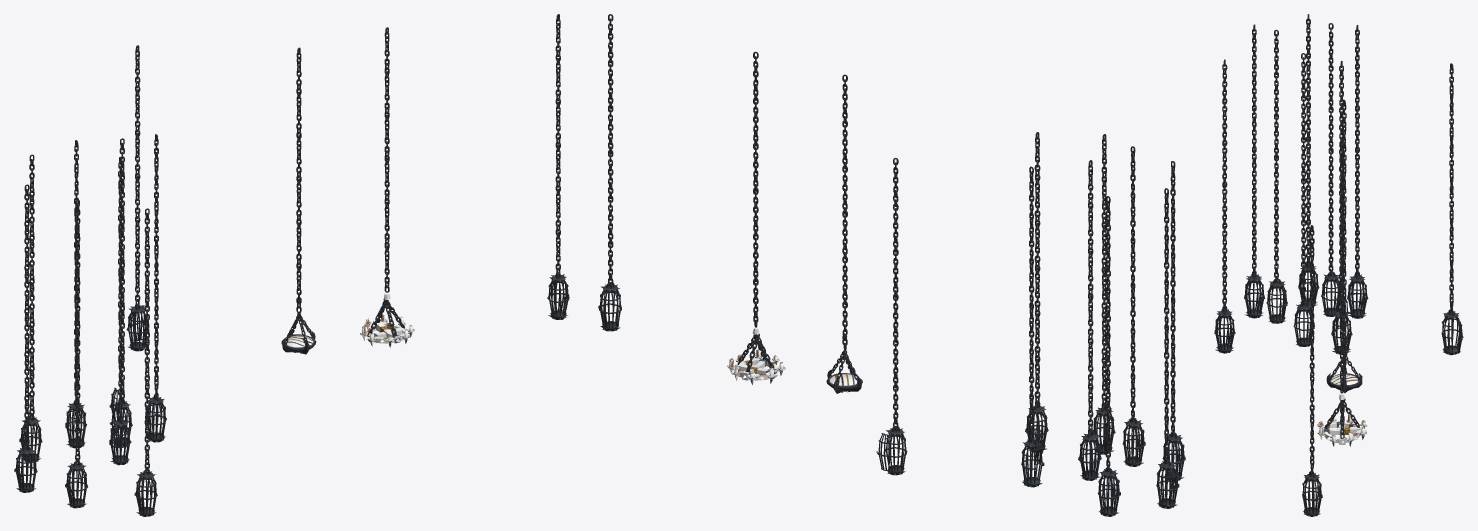
Rendered from Cealing.fbx.
The picture shows the model from 3 angles, left to right: view 1: azimuth 30°, elevation 25°; view 2: azimuth 150°, elevation 25°; view 3: azimuth 270°, elevation 25°; orthographic projection. The views are drawn at different scales.
Parts seen in each view (by area): view 1: SM_PROP_chain_dungeon_01.013, SM_PROP_chain_dungeon_01.010, SM_PROP_chain_dungeon_01.002, SM_PROP_chain_dungeon_01.012, SM_PROP_chain_dungeon_01.001, SM_PROP_chain_dungeon_01.004, SM_PROP_chain_dungeon_01.008, SM_PROP_chain_dungeon_01.011, SM_PROP_chain_dungeon_01.005, SM_PROP_chain_dungeon_01.006, SM_PROP_chandelier_dungeon_01.002, SM_PROP_chain_dungeon_01.009 (+8 smaller); view 2: SM_PROP_chain_dungeon_01.007, SM_PROP_chain_dungeon_01.006, SM_PROP_chain_dungeon_01.002, SM_PROP_chain_dungeon_01.013, SM_PROP_chain_dungeon_01.004, SM_PROP_chain_dungeon_01.001, SM_PROP_chain_dungeon_01.005, SM_PROP_chain_dungeon_01.009, SM_PROP_chain_dungeon_01.008, SM_PROP_chain_dungeon_01.011, SM_PROP_chain_dungeon_01.012, SM_PROP_chain_dungeon_01.010 (+8 smaller); view 3: SM_PROP_chain_dungeon_01.007, SM_PROP_chain_dungeon_01.012, SM_PROP_chain_dungeon_01.011, SM_PROP_chain_dungeon_01.008, SM_PROP_chain_dungeon_01.010, SM_PROP_chain_dungeon_01.006, SM_PROP_chain_dungeon_01.005, SM_PROP_chain_dungeon_01.002, SM_PROP_chain_dungeon_01.001, SM_PROP_chain_dungeon_01.013, SM_PROP_chandelier_dungeon_01.002, SM_PROP_chain_dungeon_01.004 (+13 smaller).
Part boxes in pixels (x1,y1,x2,y2): SM_PROP_chain_dungeon_01.013: (135, 45, 140, 308); SM_PROP_chain_dungeon_01.010: (75, 200, 80, 465); SM_PROP_chain_dungeon_01.002: (384, 27, 389, 292); SM_PROP_chain_dungeon_01.012: (144, 208, 149, 473); SM_PROP_chain_dungeon_01.001: (555, 14, 560, 277); SM_PROP_chain_dungeon_01.004: (296, 47, 301, 312); SM_PROP_chain_dungeon_01.008: (24, 184, 29, 449); SM_PROP_chain_dungeon_01.011: (29, 154, 34, 419); SM_PROP_chain_dungeon_01.005: (118, 157, 123, 422); SM_PROP_chain_dungeon_01.006: (154, 134, 158, 399); SM_PROP_chandelier_dungeon_01.002: (360, 293, 414, 347); SM_PROP_chain_dungeon_01.009: (119, 138, 124, 403); SM_PROP_chain_dungeon_01.007: (1088, 160, 1093, 435); SM_PROP_chain_dungeon_01.006: (1034, 132, 1040, 407); SM_PROP_chain_dungeon_01.002: (753, 51, 758, 327); SM_PROP_chain_dungeon_01.013: (893, 158, 898, 432); SM_PROP_chain_dungeon_01.004: (842, 74, 847, 350); SM_PROP_chain_dungeon_01.001: (608, 14, 613, 288); SM_PROP_chain_dungeon_01.005: (1101, 134, 1106, 409); SM_PROP_chain_dungeon_01.009: (1029, 166, 1034, 442); SM_PROP_chain_dungeon_01.008: (1164, 188, 1169, 463); SM_PROP_chain_dungeon_01.011: (1105, 196, 1110, 471); SM_PROP_chain_dungeon_01.012: (1130, 146, 1135, 422); SM_PROP_chain_dungeon_01.010: (1170, 161, 1175, 436); SM_PROP_chain_dungeon_01.007: (1328, 23, 1333, 275); SM_PROP_chain_dungeon_01.012: (1222, 59, 1227, 312); SM_PROP_chain_dungeon_01.011: (1355, 25, 1359, 277); SM_PROP_chain_dungeon_01.008: (1306, 14, 1310, 266); SM_PROP_chain_dungeon_01.010: (1252, 24, 1256, 276); SM_PROP_chain_dungeon_01.006: (1301, 53, 1305, 305); SM_PROP_chain_dungeon_01.005: (1274, 29, 1278, 282); SM_PROP_chain_dungeon_01.002: (1339, 140, 1344, 393); SM_PROP_chain_dungeon_01.001: (1309, 225, 1314, 476); SM_PROP_chain_dungeon_01.013: (1449, 63, 1453, 315); SM_PROP_chandelier_dungeon_01.002: (1317, 393, 1367, 446); SM_PROP_chain_dungeon_01.004: (1341, 99, 1346, 352).
Size of the model in its own units: 32.5 by 20.62 by 13.26.
Materials: 104 (104 with a texture image).
